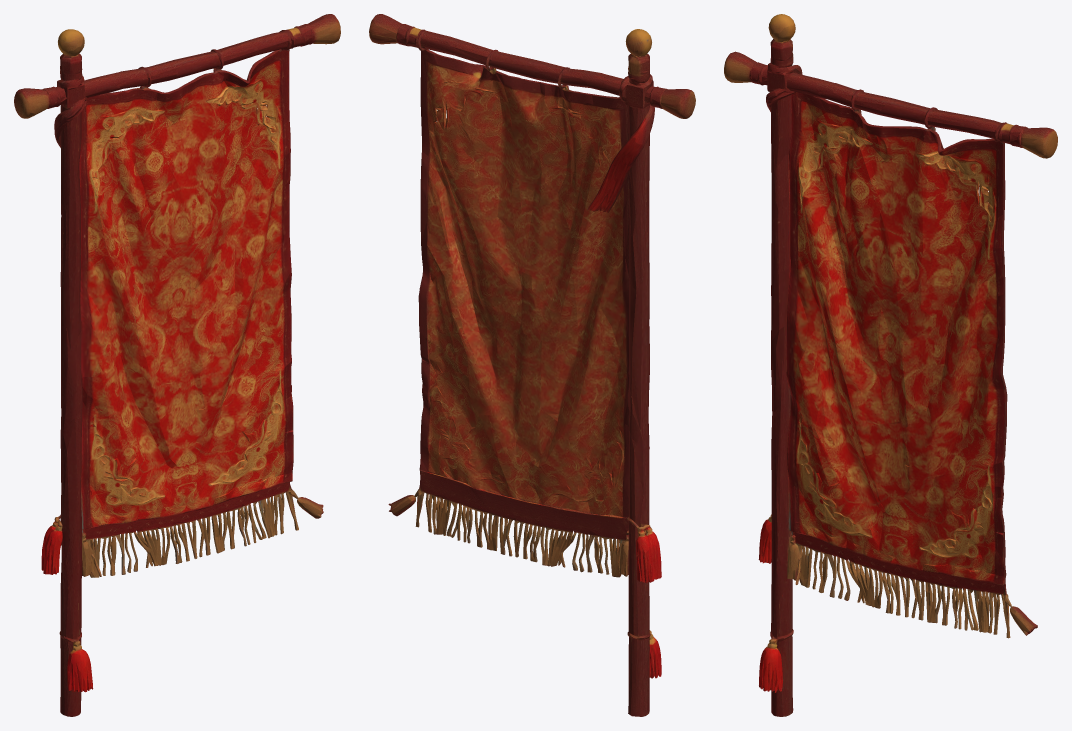
Rendered from ITM_SILK_BANNER_001.glb.
The picture shows the model from 3 angles, left to right: view 1: azimuth 30°, elevation 25°; view 2: azimuth 150°, elevation 25°; view 3: azimuth 330°, elevation 25°; orthographic projection. The views are drawn at different scales.
Bounding box in the file's own units: 0.9271 × 1.9 × 0.1411.
Materials: 1 (1 with a texture image).
